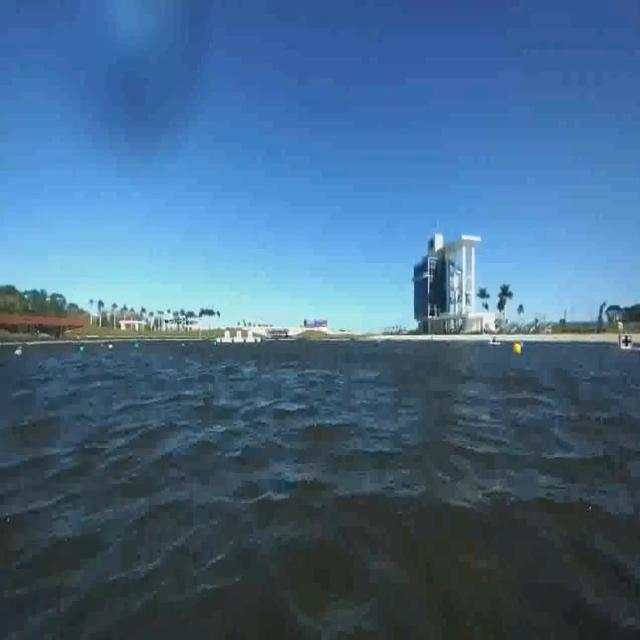yellow-buoy: (515, 342, 523, 356)
